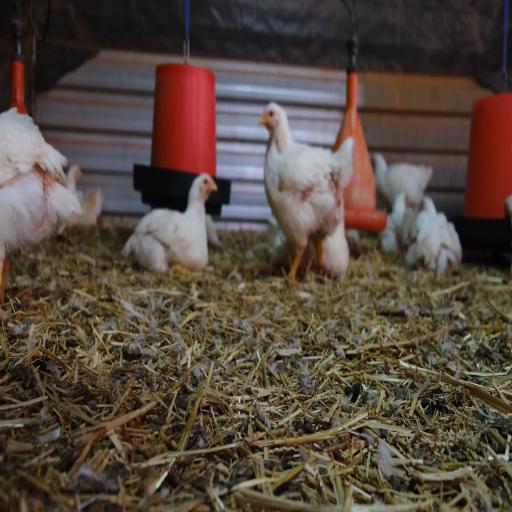healthy: (257, 98, 287, 144), (199, 165, 222, 208)
